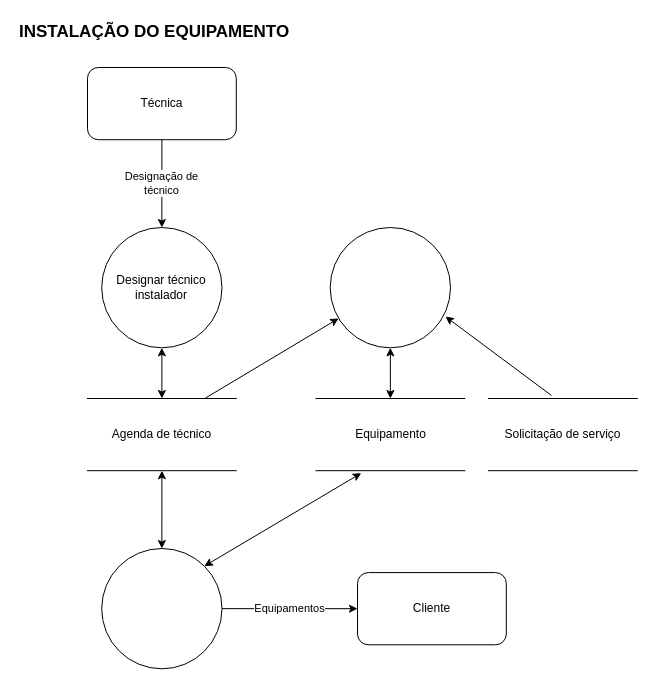
The diagram is 655 pixels wide and 686 high, and some of its shapes have lost their labels. The shapes that lost their labels are listed below. From the top down, each one's box as (x1, y1, x2, y2) in pixels, then its label:
(329, 226, 450, 348): Verificar Equipamentos
(101, 548, 222, 669): Instalar equipamentos
